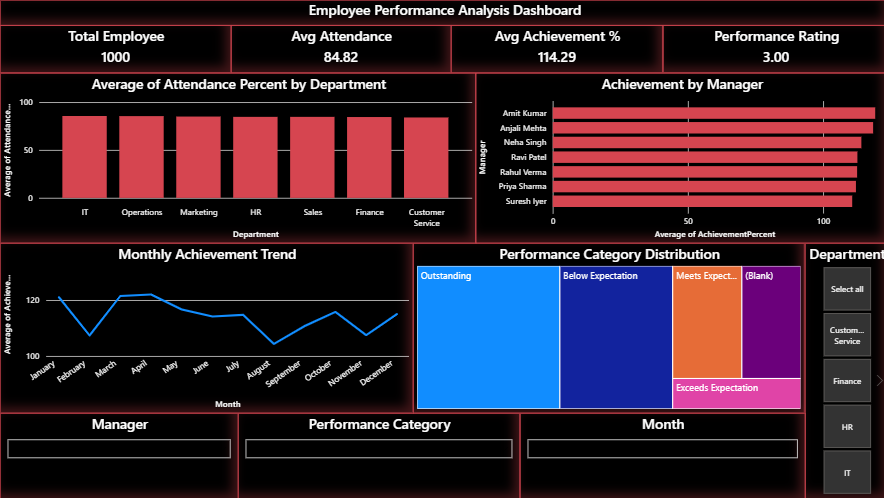

The page's visual inventory and layout, read from the dashboard file:
{"tool":"powerbi","page":{"name":"Page 1","canvas":[1280,720],"ordinal":0},"visuals":[{"type":"textbox","title":"Employee Performance Analysis Dashboard","box":[0,0,1280,36.7],"z":2000},{"type":"card","title":"Total Employee","fields":{"Values":["Count(Dataset.EmployeeID)"]},"box":[0,36.7,332.8,68.9],"z":3000},{"type":"card","title":"Avg Attendance","fields":{"Values":["Avg(Dataset.AttendancePercent)"]},"box":[332.8,36.7,316.7,68.9],"z":4000},{"type":"card","title":"Avg Achievement %","fields":{"Values":["Avg(Dataset.AchievementPercent)"]},"box":[649.5,36.7,305,68.9],"z":5000},{"type":"card","title":"Performance Rating","fields":{"Values":["Avg(Dataset.PerformanceRating)"]},"box":[954.5,36.7,325.5,68.9],"z":6000},{"type":"clusteredColumnChart","title":"Average of Attendance Percent by Department","fields":{"Category":["Dataset.Department"],"Y":["Avg(Dataset.AttendancePercent)"]},"box":[0,105.6,686.2,244.9],"z":7000},{"type":"barChart","title":"Achievement by Manager","fields":{"Category":["Dataset.Manager"],"Y":["Avg(Dataset.AchievementPercent)"]},"box":[684.7,105.6,595.3,244.9],"z":8000},{"type":"lineChart","title":"Monthly Achievement Trend","fields":{"Category":["Dataset.Month.Variation.Date Hierarchy.Month"],"Y":["Avg(Dataset.AchievementPercent)"]},"box":[0,350.4,595.3,244.9],"z":9000},{"type":"treemap","title":"Performance Category Distribution","fields":{"Group":["Dataset.PerformanceCategory"],"Values":["CountNonNull(Dataset.EmployeeID)"]},"box":[595.3,350.4,564.5,244.9],"z":10000},{"type":"slicer","title":"Department","fields":{"Values":["Dataset.Department"]},"box":[1159.8,350.4,120.2,369.5],"z":11000},{"type":"slicer","title":"Manager","fields":{"Values":["Dataset.Manager"]},"box":[0,595.3,343.1,124.6],"z":12000},{"type":"slicer","title":"Performance Category","fields":{"Values":["Dataset.PerformanceCategory"]},"box":[343.1,595.3,406.1,124.6],"z":13000},{"type":"slicer","title":"Month","fields":{"Values":["Dataset.Month"]},"box":[749.2,595.3,410.5,124.6],"z":14000}]}

Visuals, with their boxes in screenshot pixels (x1, y1, x2, y2), scaled from the page's 1280x720 canvas onto the 884x498 screenshot:
"Employee Performance Analysis Dashboard" textbox: 0 0 883 25
"Total Employee" card: 0 25 230 73
"Avg Attendance" card: 230 25 449 73
"Avg Achievement %" card: 449 25 659 73
"Performance Rating" card: 659 25 883 73
"Average of Attendance Percent by Department" clusteredColumnChart: 0 73 474 242
"Achievement by Manager" barChart: 473 73 883 242
"Monthly Achievement Trend" lineChart: 0 242 411 412
"Performance Category Distribution" treemap: 411 242 801 412
"Department" slicer: 801 242 883 497
"Manager" slicer: 0 412 237 497
"Performance Category" slicer: 237 412 517 497
"Month" slicer: 517 412 801 497
